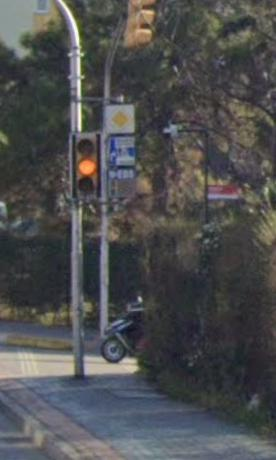yellowlight: (72, 134, 100, 205)
